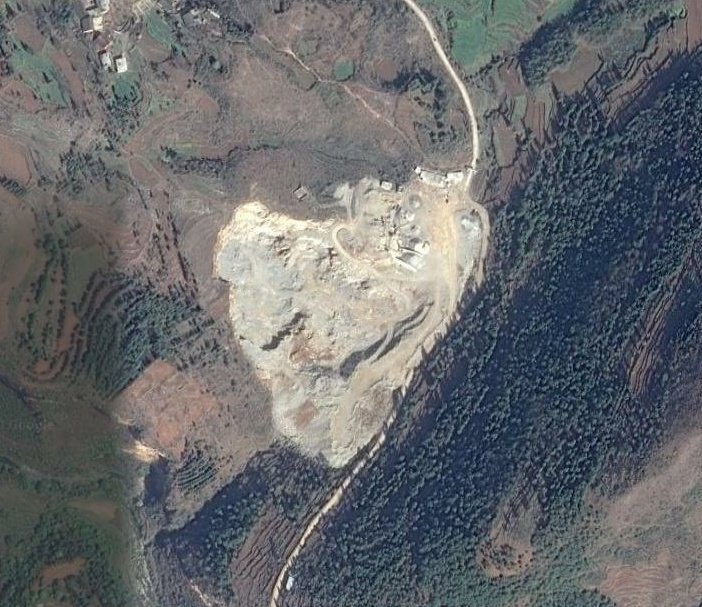slope: (211, 176, 483, 468)
